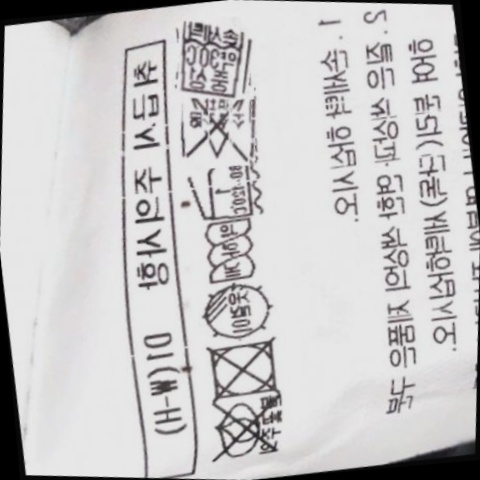DN_tumble_dry: (197, 328, 293, 408)
hand_wash: (167, 17, 259, 102)
iron_low: (185, 156, 264, 228)
line_dry_in_shade: (192, 275, 282, 347)
wring: (197, 213, 265, 290)
